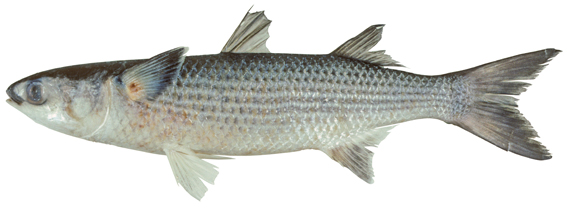fish: (6, 5, 563, 200)
